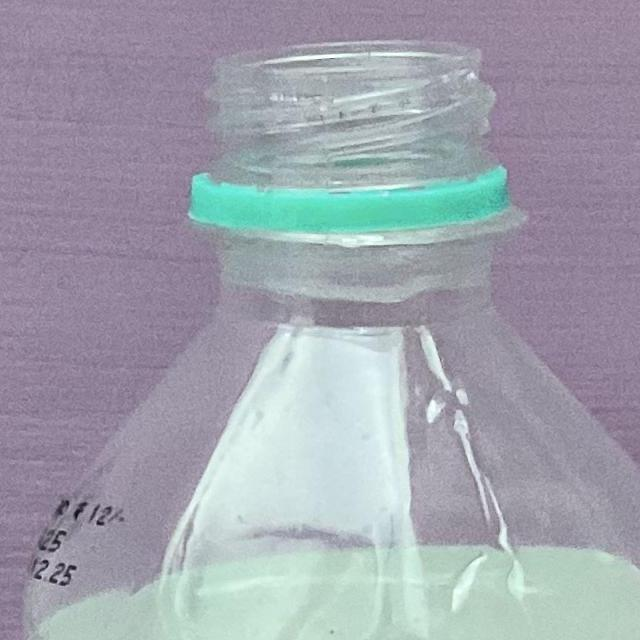open-cap: (198, 40, 509, 260)
